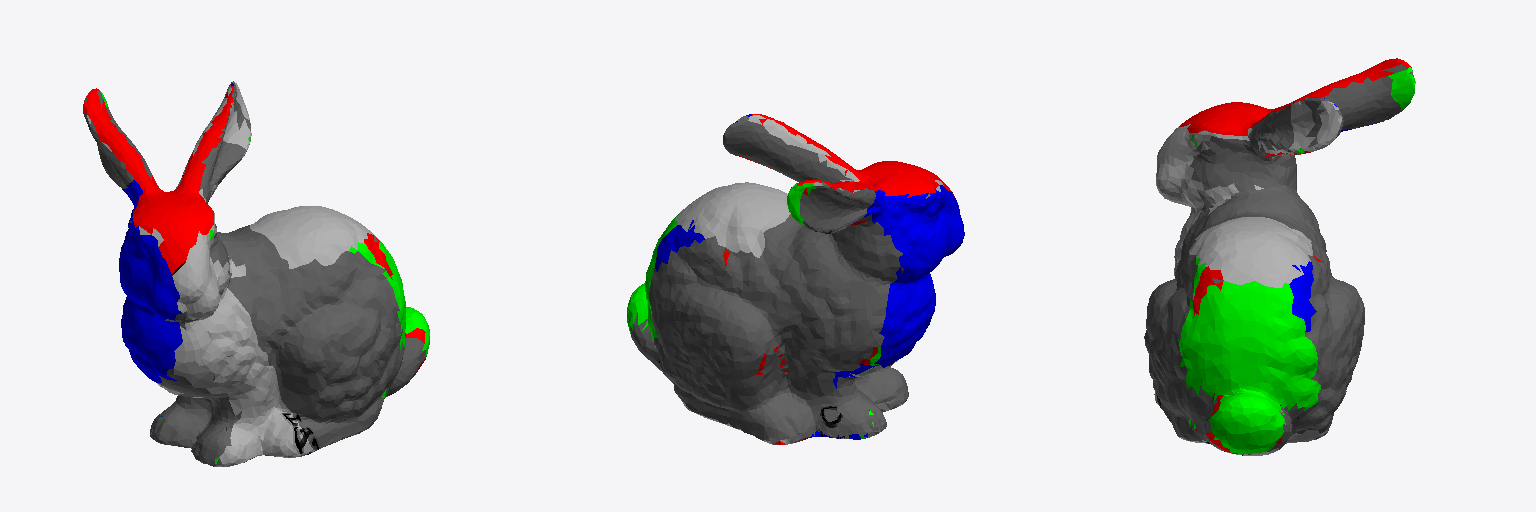
3 renders of one model, left to right at view 1: azimuth 30°, elevation 25°; view 2: azimuth 150°, elevation 25°; view 3: azimuth 270°, elevation 25°, orthographic.
Parts seen in each view (by area): view 1: objdefault; view 2: objdefault; view 3: objdefault.
Part boxes in pixels (left/top/right/bottom): objdefault: left=83, top=81, right=429, bottom=466; objdefault: left=627, top=114, right=964, bottom=444; objdefault: left=1144, top=58, right=1415, bottom=455.
Bounding box in the file's own units: 15.58 × 15.41 × 12.06.
Materials: 1 (1 with a texture image).